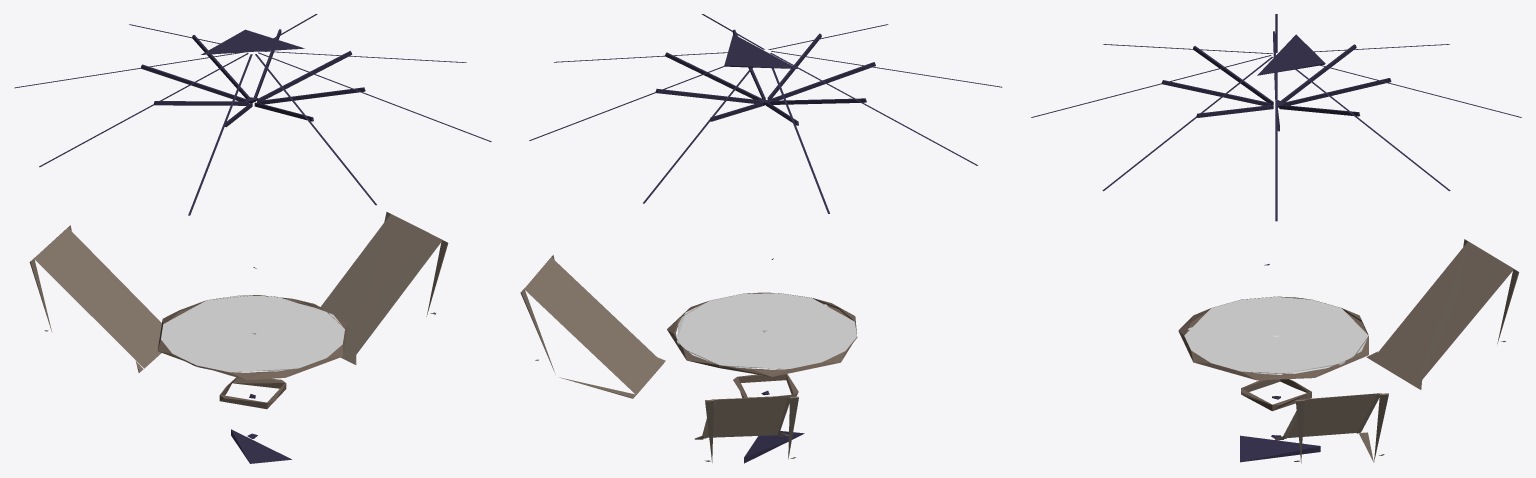
The model's file is patio-set.lod1.glb.
The picture shows the model from 3 angles, left to right: view 1: azimuth 30°, elevation 25°; view 2: azimuth 150°, elevation 25°; view 3: azimuth 270°, elevation 25°; orthographic projection.
Visible parts, largest first — view 1: Object_6; view 2: Object_6; view 3: Object_6.
Boxes of the visible parts, x1,y1,x2,y2 form: Object_6: [14, 14, 491, 463]; Object_6: [520, 14, 1002, 463]; Object_6: [1031, 14, 1521, 463].
Size of the model in its own units: 2.54 by 2.27 by 2.54.
